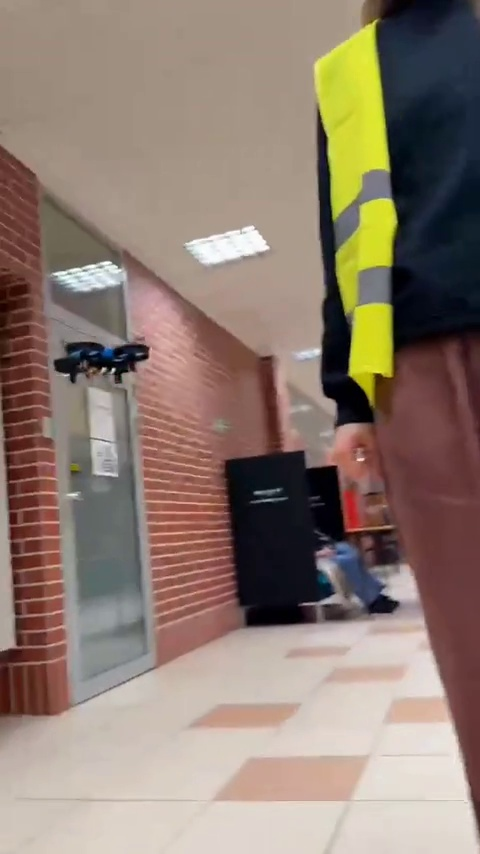drone: (54, 343, 156, 382)
